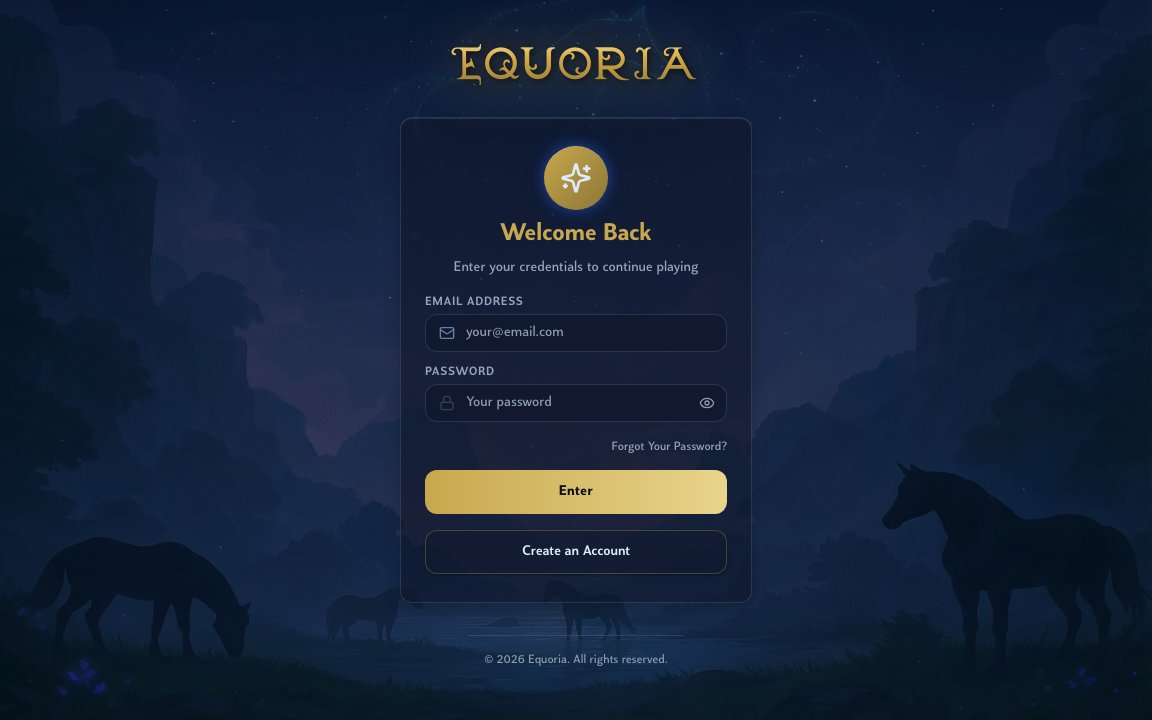
Scenario: LoginPage: conduct refusals › names the day a freeze ends and hides the server wording
Type "john@example.com" into the field labelled "Email Address" at coordinates (576, 332), box x1=425 y1=314 x2=727 y2=352
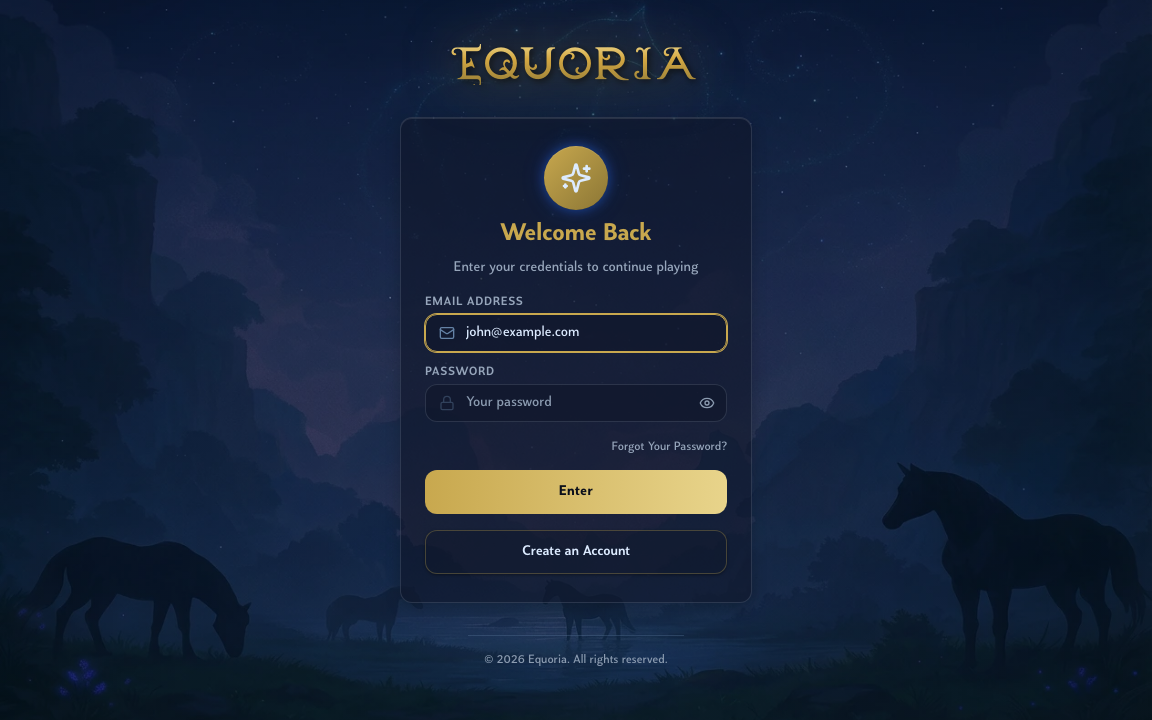
Type "password123" into the password field labelled "Password" at coordinates (576, 402), box x1=425 y1=384 x2=727 y2=422
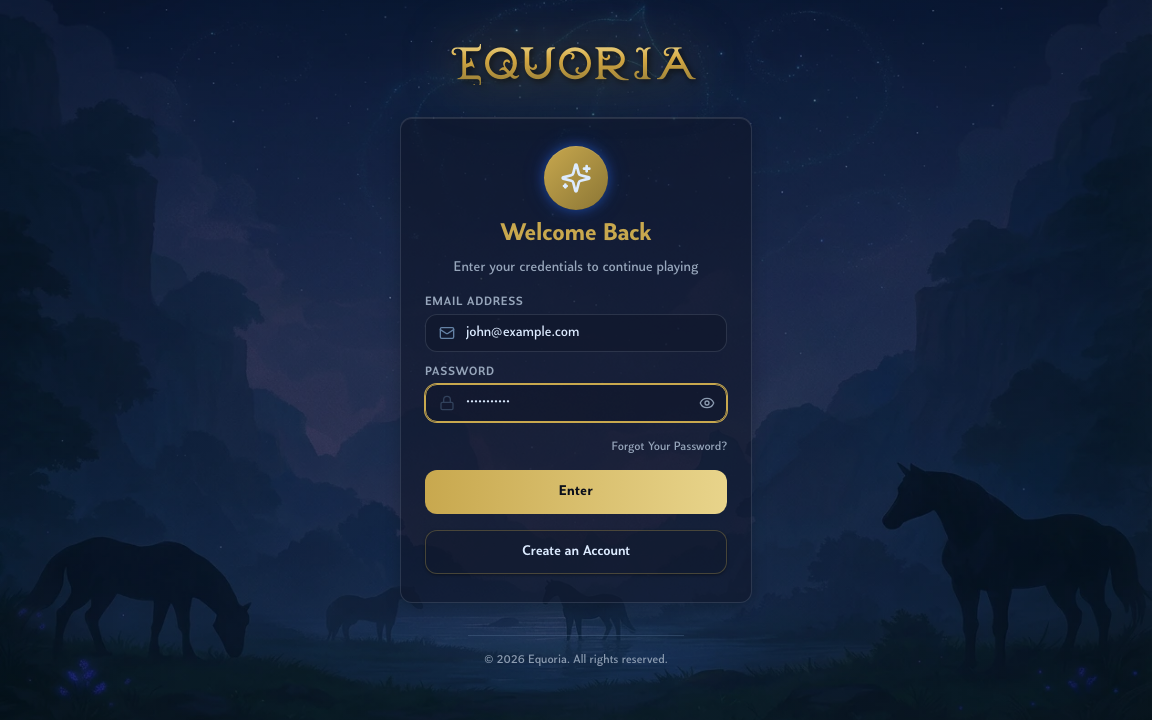
Click the button "Enter" at coordinates (576, 492), box x1=425 y1=470 x2=727 y2=514
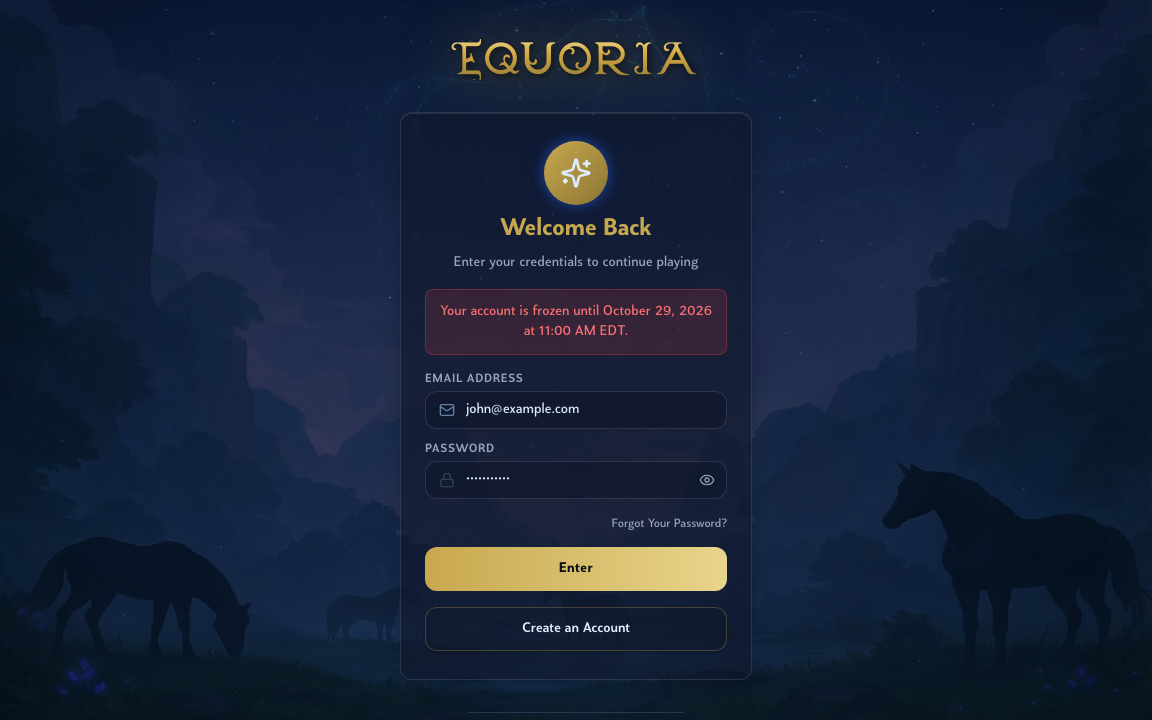
Expected: the text "Your account is frozen until October 29, 2026" is shown, x1=440 y1=304 x2=712 y2=339
